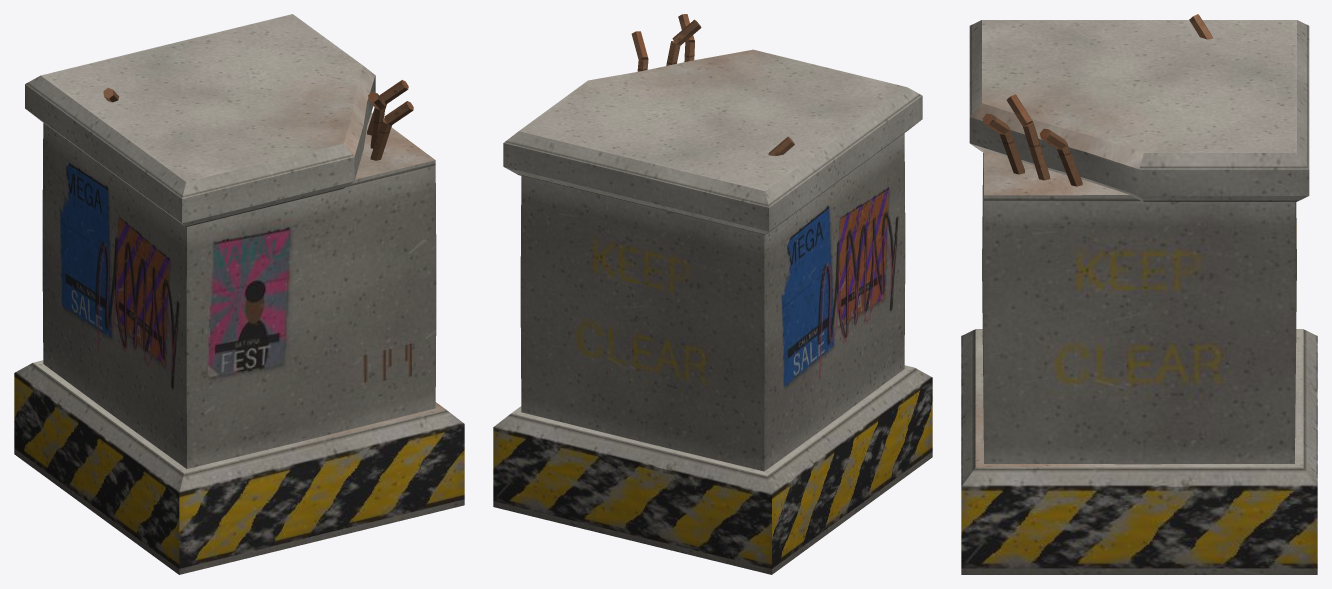
Rendered from prop_pillar_b.glb.
The picture shows the model from 3 angles, left to right: view 1: azimuth 30°, elevation 25°; view 2: azimuth 150°, elevation 25°; view 3: azimuth 270°, elevation 25°; orthographic projection. The views are drawn at different scales.
Visible parts, largest first — view 1: prop_pillar_b_body; view 2: prop_pillar_b_body; view 3: prop_pillar_b_body.
Part boxes in pixels (x1,y1,x2,y2): prop_pillar_b_body: (14,14,464,574); prop_pillar_b_body: (493,14,932,574); prop_pillar_b_body: (961,14,1317,574).
Size of the model in its own units: 0.86 by 1.19 by 0.86.
1 material, 1 textured.
